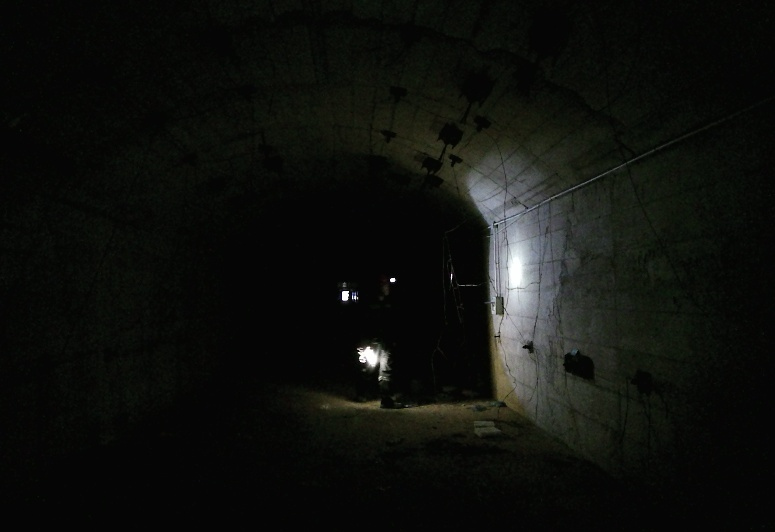person: (356, 275, 407, 414)
